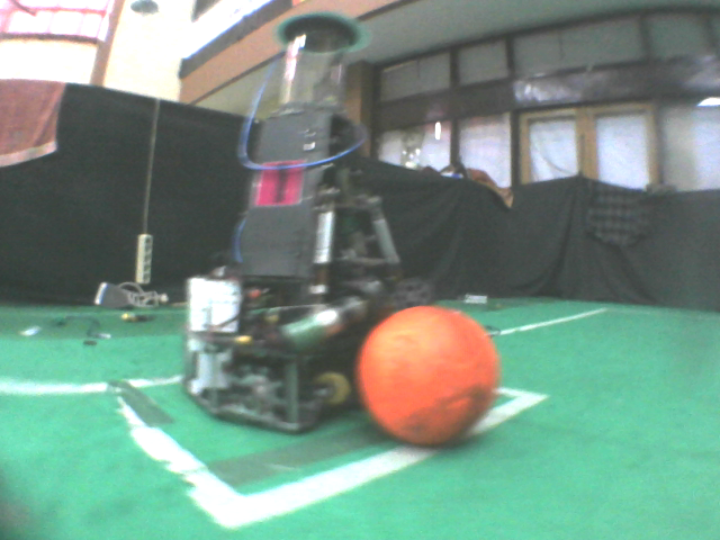bola: (350, 300, 503, 455)
